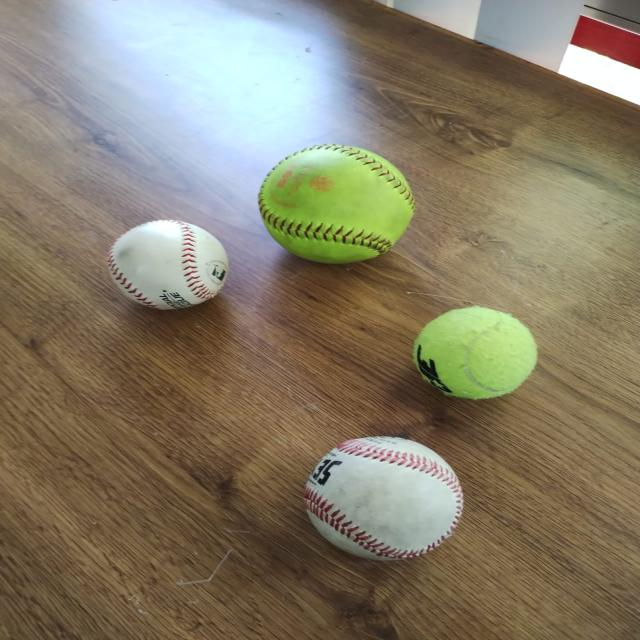beisbol ball: (294, 428, 466, 565), (104, 219, 232, 314)
softball ball: (257, 144, 416, 262)
tenis ball: (411, 306, 539, 400)
